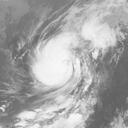cyclone: (30, 31, 82, 88)
